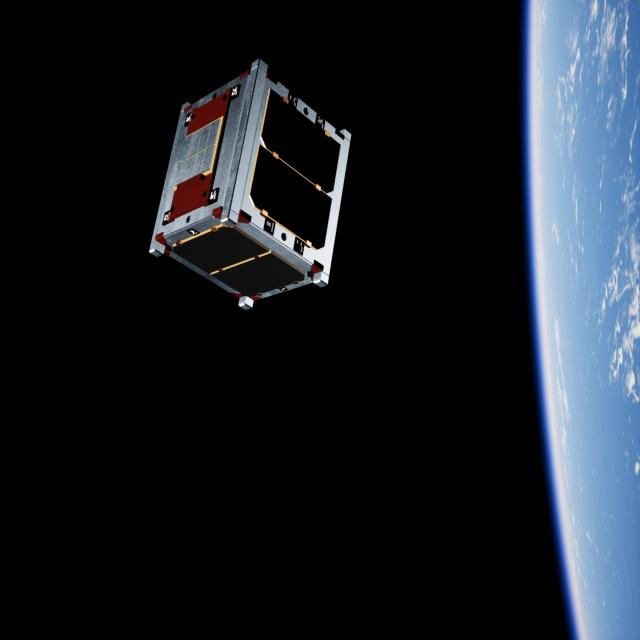medium_debris: (137, 55, 366, 322)
